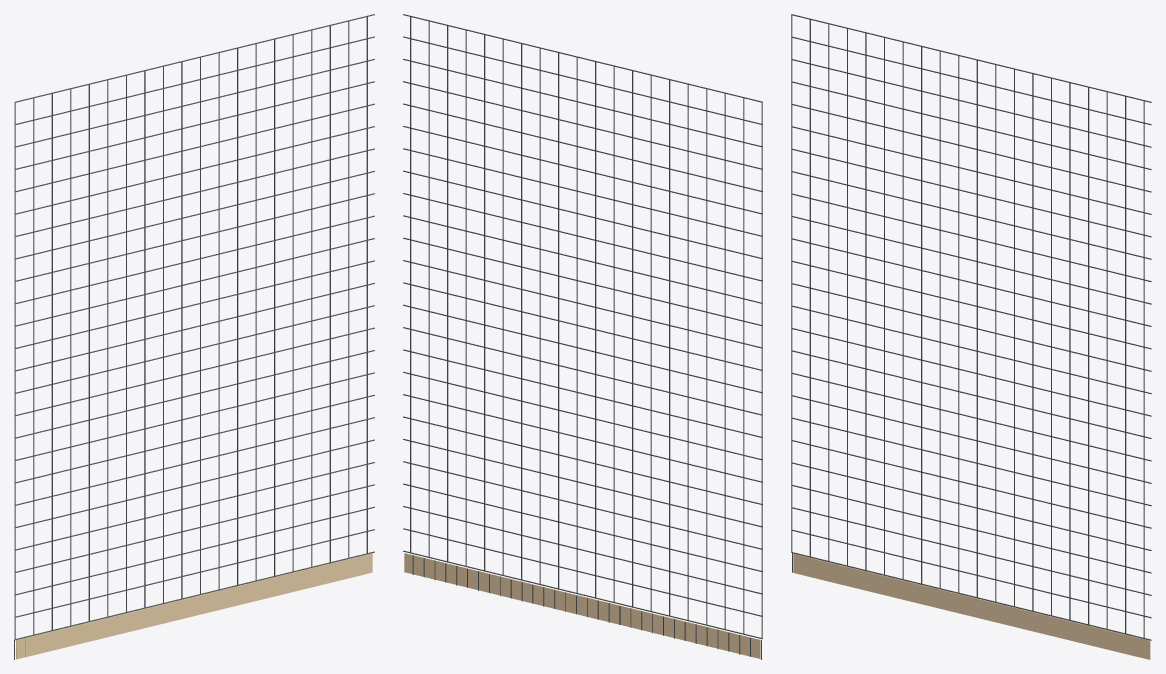
The model's file is 20261103-east-kyobo-detail.glb.
The picture shows the model from 3 angles, left to right: view 1: azimuth 30°, elevation 25°; view 2: azimuth 150°, elevation 25°; view 3: azimuth 330°, elevation 25°; orthographic projection.
Parts seen in each view (by area): view 1: Kyobo commercial tower - approximate facade vertical mullion, Kyobo commercial tower - approximate facade horizontal mulli, Kyobo street-facing openings, Kyobo commercial tower - approximate ground floor glazing; view 2: Kyobo commercial tower - approximate facade vertical mullion, Kyobo commercial tower - approximate facade horizontal mulli, Kyobo commercial tower - approximate ground floor glazing, Kyobo commercial tower - approximate ground floor frames; view 3: Kyobo commercial tower - approximate facade vertical mullion, Kyobo commercial tower - approximate facade horizontal mulli, Kyobo street-facing openings, Kyobo commercial tower - approximate ground floor glazing.
Boxes of the visible parts, box(x1,y1,x2,y2) form: Kyobo commercial tower - approximate facade vertical mullion: box(14, 17, 367, 639); Kyobo commercial tower - approximate facade horizontal mulli: box(14, 14, 374, 640); Kyobo street-facing openings: box(25, 556, 363, 657); Kyobo commercial tower - approximate ground floor glazing: box(16, 553, 372, 659); Kyobo commercial tower - approximate facade vertical mullion: box(410, 17, 762, 639); Kyobo commercial tower - approximate facade horizontal mulli: box(403, 14, 762, 638); Kyobo commercial tower - approximate ground floor glazing: box(404, 553, 760, 658); Kyobo commercial tower - approximate ground floor frames: box(412, 555, 761, 659); Kyobo commercial tower - approximate facade vertical mullion: box(791, 15, 1144, 638); Kyobo commercial tower - approximate facade horizontal mulli: box(791, 14, 1151, 640); Kyobo street-facing openings: box(802, 556, 1140, 657); Kyobo commercial tower - approximate ground floor glazing: box(793, 553, 1150, 659).
Bounding box in the file's own units: 66 × 97.89 × 0.35.
